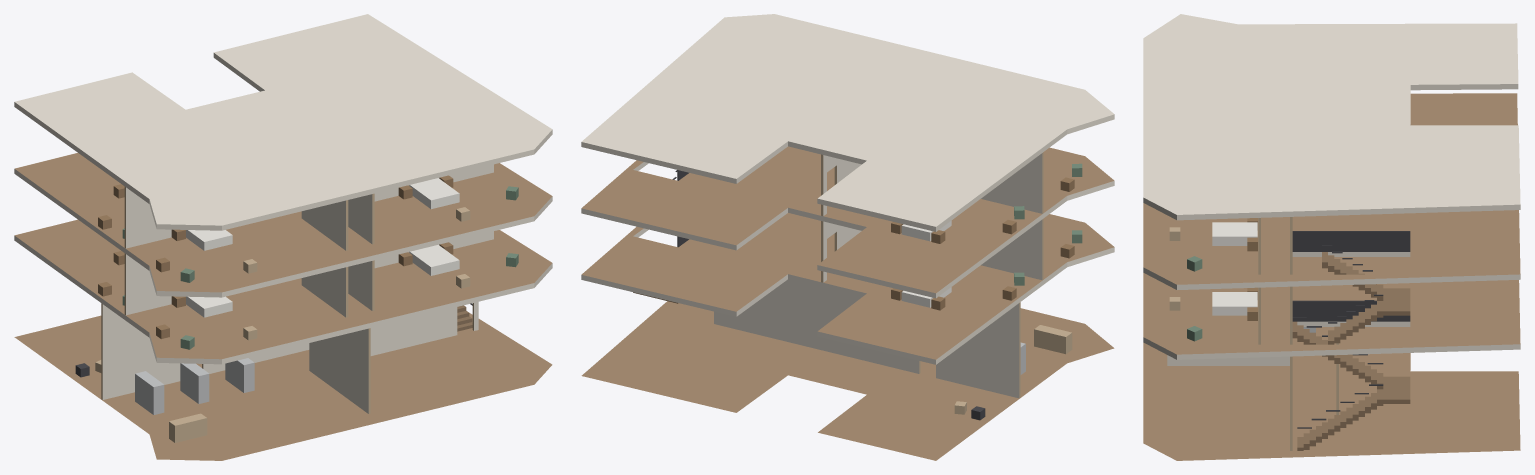
Rendered from interior.glb.
3 renders of one model, left to right at view 1: azimuth 30°, elevation 25°; view 2: azimuth 150°, elevation 25°; view 3: azimuth 270°, elevation 25°, orthographic. The views are drawn at different scales.
Visible parts, largest first — view 1: slabs, partitions, coarse-s0, coarse-s2, coarse-s1; view 2: slabs, partitions, coarse-s0, coarse-s1, coarse-s2; view 3: slabs, stair, partitions, coarse-s2, coarse-s1.
Boxes of the visible parts, x1,y1,x2,y2 form: slabs: [14, 14, 552, 460]; partitions: [101, 164, 493, 413]; coarse-s0: [75, 358, 254, 442]; coarse-s2: [98, 175, 518, 282]; coarse-s1: [98, 242, 518, 349]; slabs: [581, 14, 1114, 460]; partitions: [714, 152, 1043, 398]; coarse-s0: [954, 325, 1072, 420]; coarse-s1: [891, 230, 1082, 310]; coarse-s2: [891, 163, 1082, 243]; slabs: [1143, 14, 1520, 460]; stair: [1292, 231, 1410, 450]; partitions: [1167, 217, 1338, 450]; coarse-s2: [1169, 218, 1257, 271]; coarse-s1: [1169, 287, 1257, 341].
Bounding box in the file's own units: 20.96 × 11.98 × 16.61.
